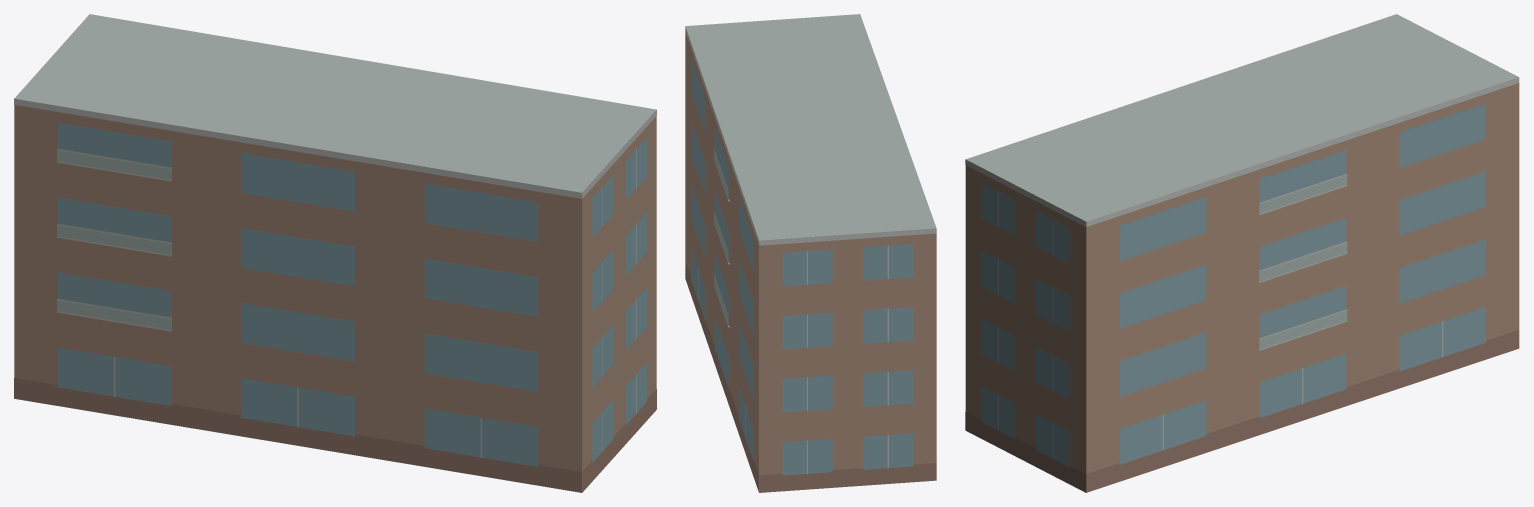
File: survey-upis-32665850.glb
3 views of the same model, side by side, from view 1: azimuth 30°, elevation 25°; view 2: azimuth 150°, elevation 25°; view 3: azimuth 270°, elevation 25° (orthographic). The views are drawn at different scales.
Visible parts, largest first — view 1: survey-upis-32665850.tmp; view 2: survey-upis-32665850.tmp; view 3: survey-upis-32665850.tmp.
Boxes of the visible parts, x1,y1,x2,y2 form: survey-upis-32665850.tmp: (14, 14, 656, 492); survey-upis-32665850.tmp: (685, 14, 936, 492); survey-upis-32665850.tmp: (965, 14, 1519, 492).
Bounding box in the file's own units: 19.71 × 12 × 22.22.
